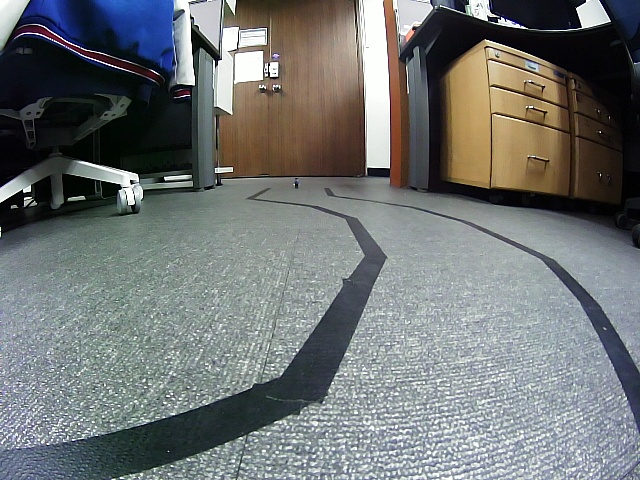person: (293, 178, 300, 188)
